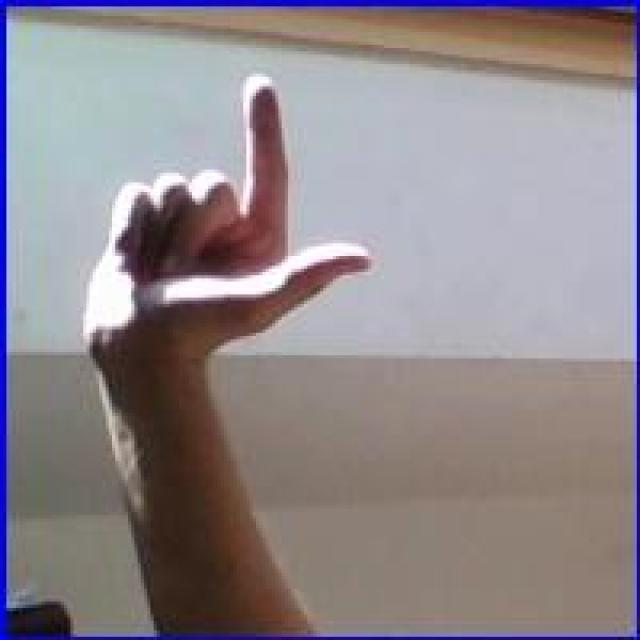L: (85, 70, 376, 432)
